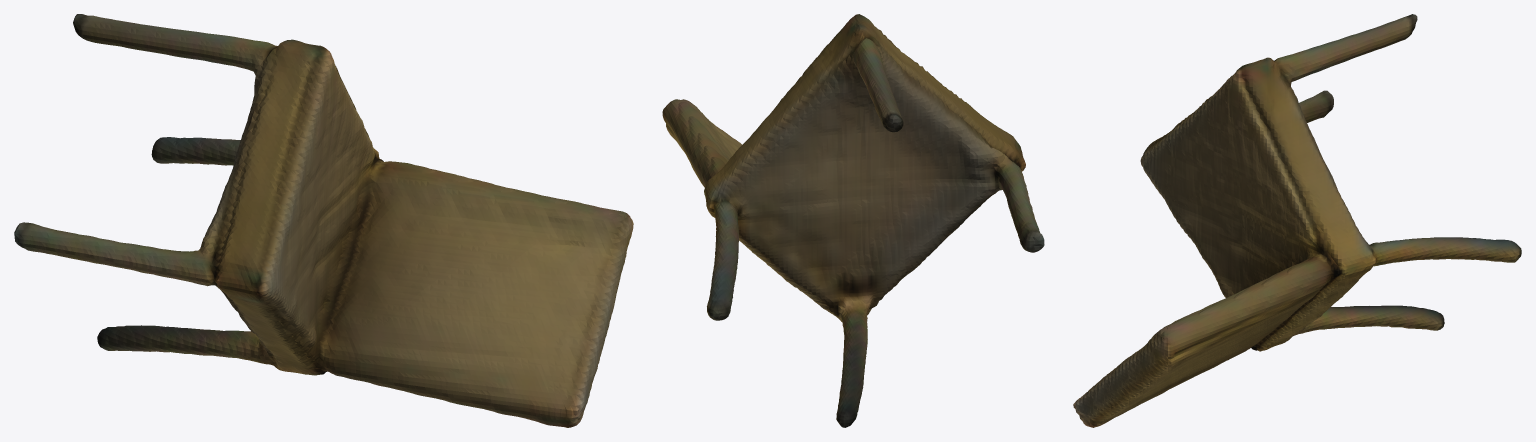
The picture shows the model from 3 angles, left to right: view 1: azimuth 30°, elevation 25°; view 2: azimuth 150°, elevation 25°; view 3: azimuth 270°, elevation 25°; orthographic projection. The views are drawn at different scales.
Size of the model in its own units: 0.9814 by 0.646 by 0.8636.
